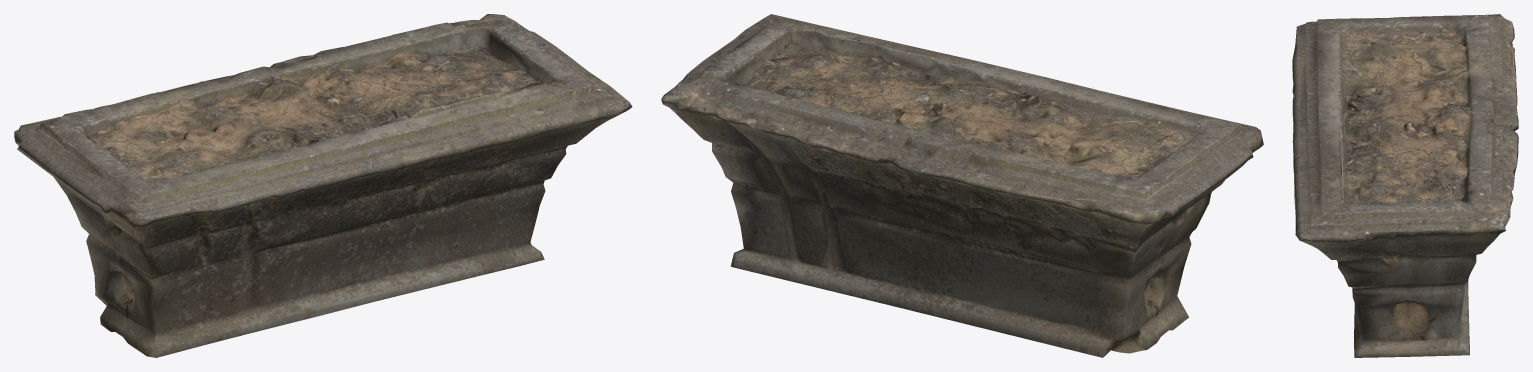
The model's file is PX_Discarded_Flower_Pot_01_LOD3.fbx.
3 views of the same model, side by side, from view 1: azimuth 30°, elevation 25°; view 2: azimuth 150°, elevation 25°; view 3: azimuth 270°, elevation 25° (orthographic). The views are drawn at different scales.
Visible parts, largest first — view 1: PX_Discarded_Flower_Pot_01_LOD3; view 2: PX_Discarded_Flower_Pot_01_LOD3; view 3: PX_Discarded_Flower_Pot_01_LOD3.
Boxes of the visible parts, x1,y1,x2,y2 form: PX_Discarded_Flower_Pot_01_LOD3: (14, 14, 632, 357); PX_Discarded_Flower_Pot_01_LOD3: (661, 14, 1263, 357); PX_Discarded_Flower_Pot_01_LOD3: (1292, 14, 1518, 357).
Size of the model in its own units: 150 by 52.93 by 65.87.
